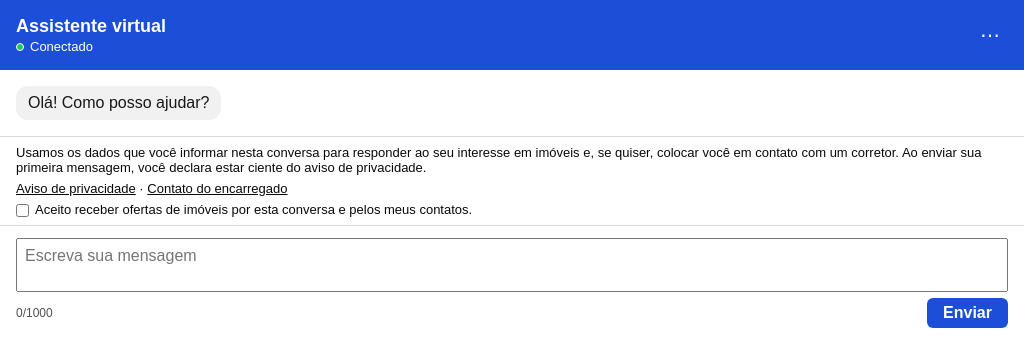
it: Conversa › storage bloqueado nao interrompe a conversa (D4)
In the text box labelled "mensagem": (512, 265) [16,238,1008,292], type "Quero alugar"
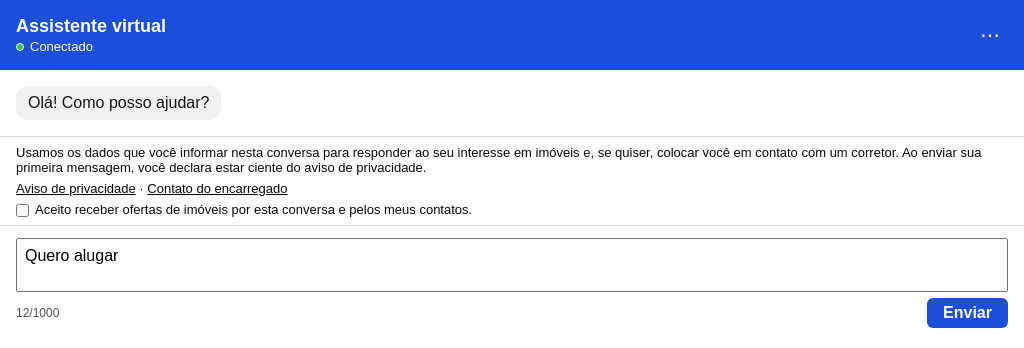
Click the button "Enviar": (968, 313) [927,298,1008,328]
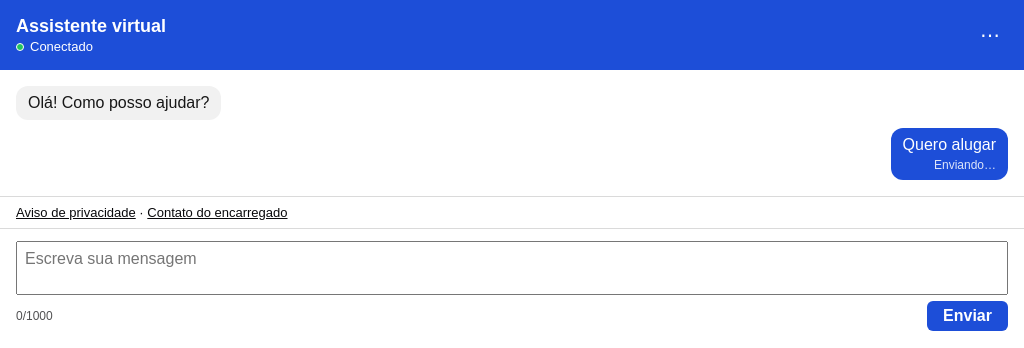
Expected: the list item "Olá! Como posso ajudar?" is shown, [16,86,221,120]
Result: the text "Quero alugar" is shown at [903,136,996,154]
